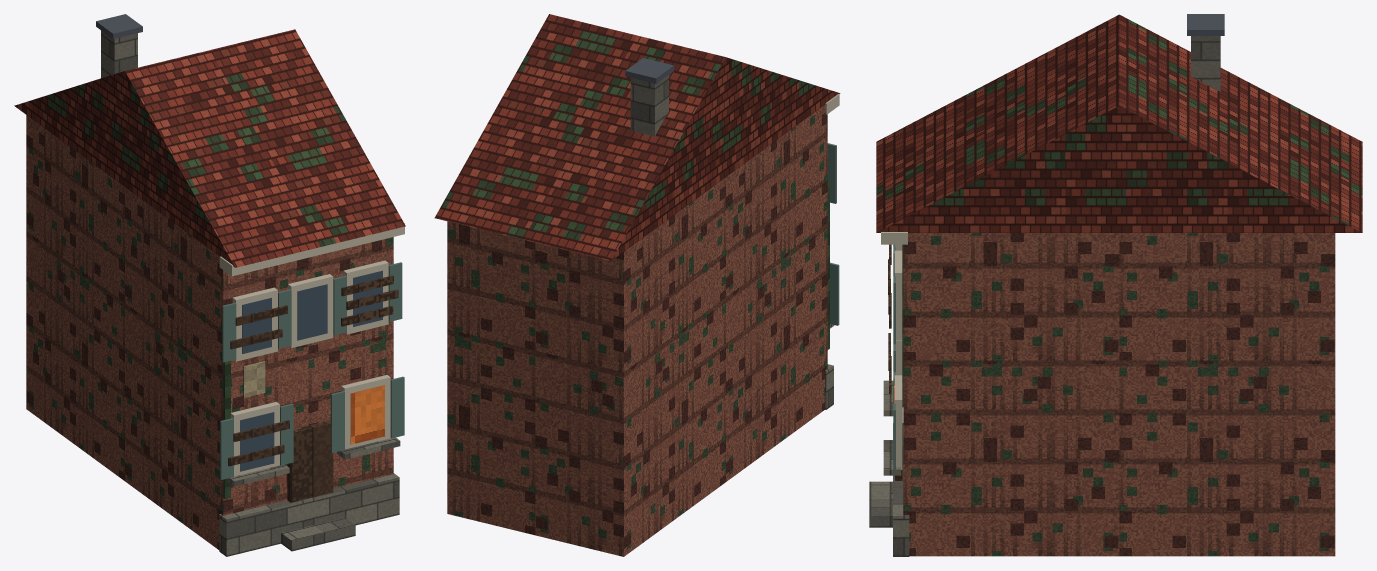
File: ENV_C_Facade_4.fbx
3 views of the same model, side by side, from view 1: azimuth 30°, elevation 25°; view 2: azimuth 150°, elevation 25°; view 3: azimuth 270°, elevation 25° (orthographic). The views are drawn at different scales.
Parts seen in each view (by area): view 1: ENV_C_Facade_4; view 2: ENV_C_Facade_4; view 3: ENV_C_Facade_4.
Boxes of the visible parts, x1,y1,x2,y2 form: ENV_C_Facade_4: (14,14,405,556); ENV_C_Facade_4: (434,14,840,556); ENV_C_Facade_4: (869,14,1362,556).
Bounding box in the file's own units: 430 × 942 × 913.
12 materials, 8 textured.
